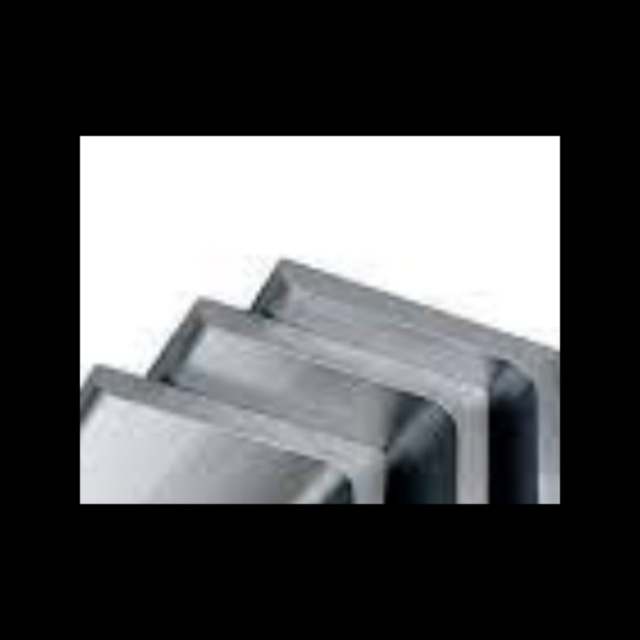Angle: (291, 280, 560, 504), (206, 314, 480, 504), (115, 384, 365, 504)
